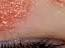plaque psoriasis: (0, 0, 31, 34)
